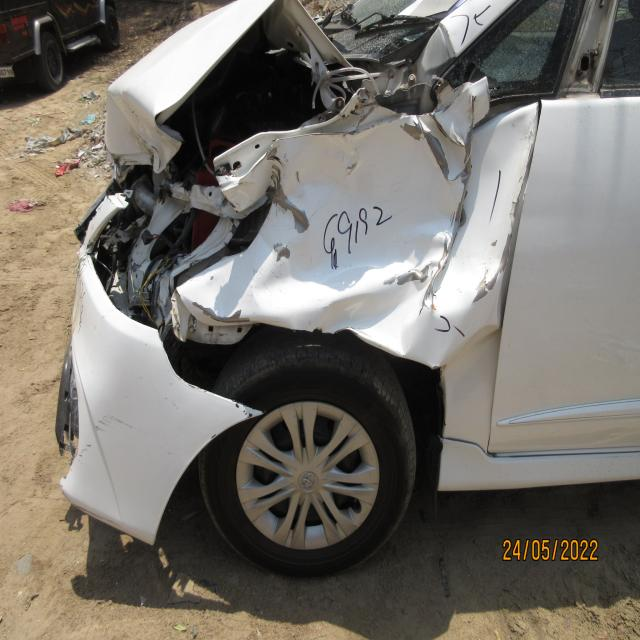damage: (170, 96, 551, 350), (103, 0, 375, 162), (431, 34, 520, 122), (559, 0, 619, 94), (74, 413, 149, 469), (52, 343, 84, 468)
